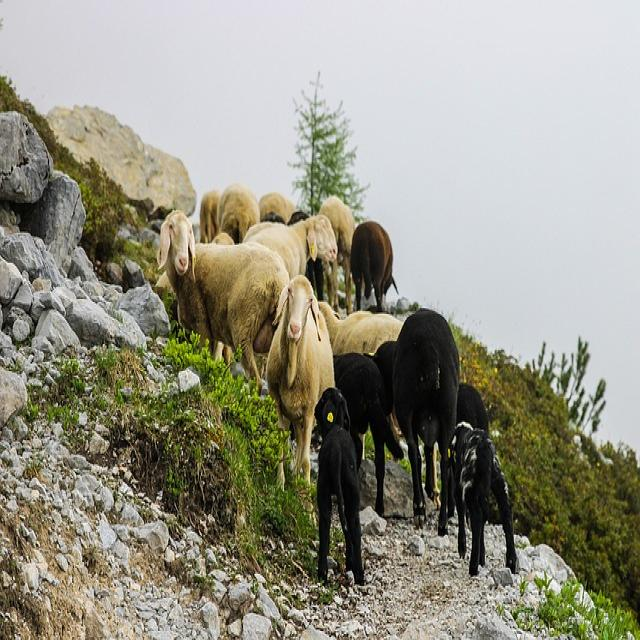goat: (158, 210, 289, 386), (394, 310, 459, 534), (266, 274, 335, 482), (334, 355, 404, 515), (451, 423, 516, 576), (315, 387, 362, 585), (248, 216, 336, 279), (319, 303, 402, 355), (351, 223, 396, 311), (218, 184, 260, 243)
